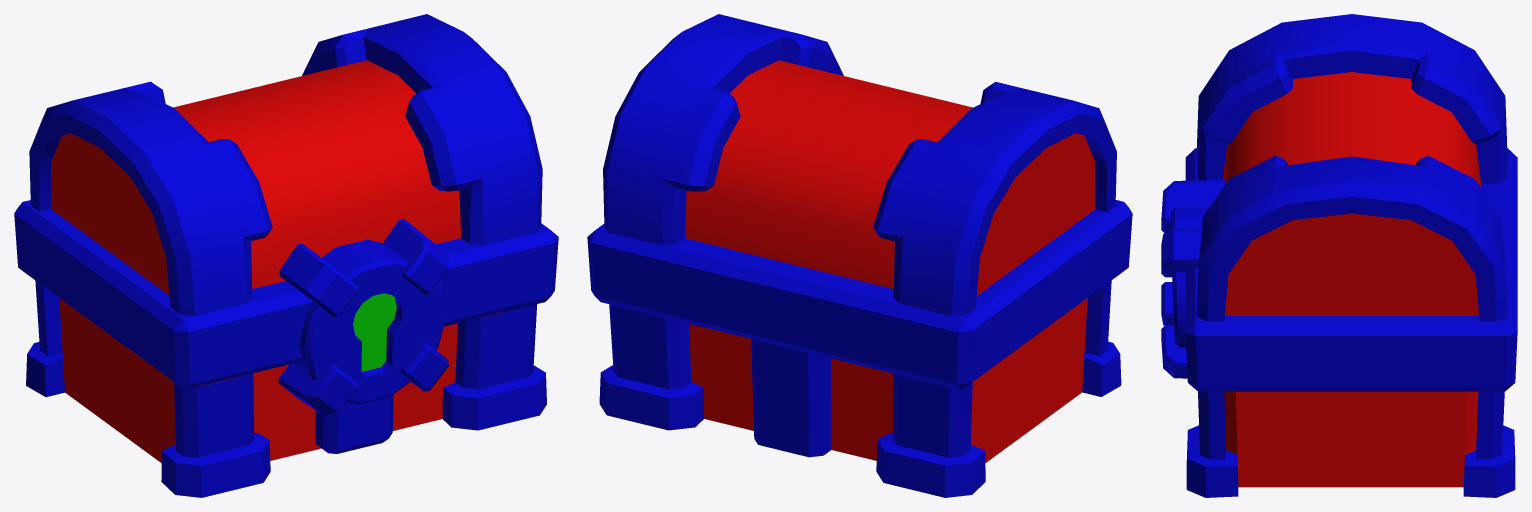
The model's file is 3D_Gameplay_Chest_Tier02_MESH.fbx.
The picture shows the model from 3 angles, left to right: view 1: azimuth 30°, elevation 25°; view 2: azimuth 150°, elevation 25°; view 3: azimuth 270°, elevation 25°; orthographic projection. The views are drawn at different scales.
Visible parts, largest first — view 1: 3D_Gameplay_Chest_Tier02_MESH; view 2: 3D_Gameplay_Chest_Tier02_MESH; view 3: 3D_Gameplay_Chest_Tier02_MESH.
Part boxes in pixels (bbox=[...]): 3D_Gameplay_Chest_Tier02_MESH: bbox=[14, 14, 558, 497]; 3D_Gameplay_Chest_Tier02_MESH: bbox=[587, 14, 1132, 497]; 3D_Gameplay_Chest_Tier02_MESH: bbox=[1161, 14, 1517, 497].
Bounding box in the file's own units: 270 × 215 × 223.
